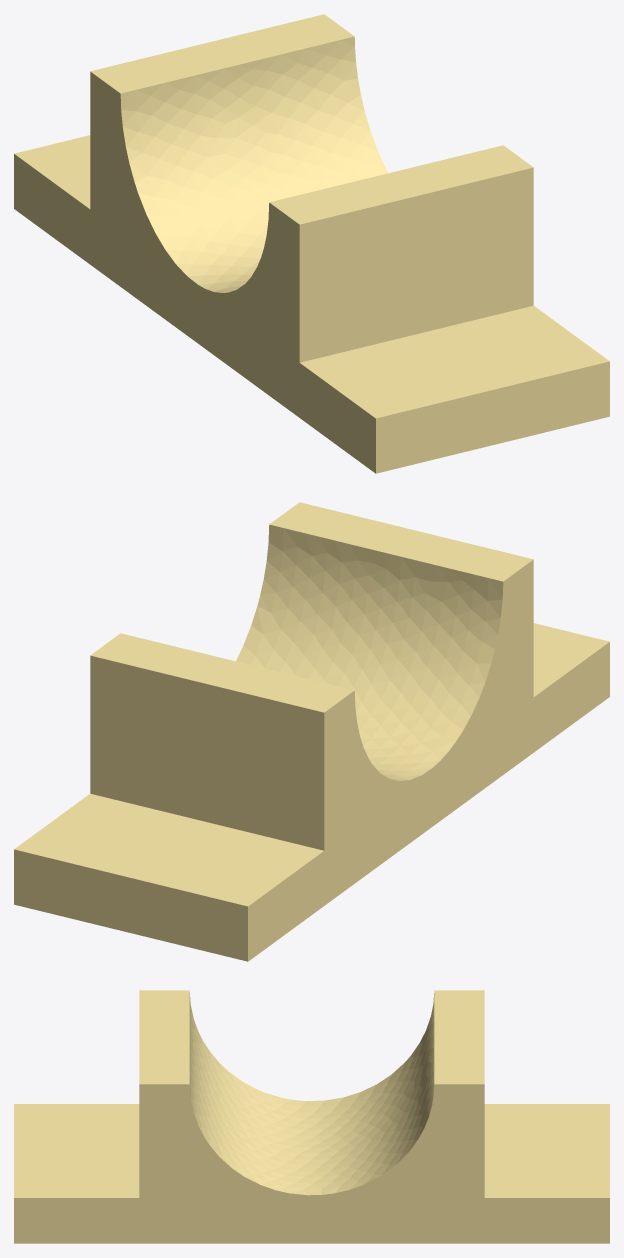
The model's file is input.gltf.
3 views of the same model, one above another, from view 1: azimuth 30°, elevation 25°; view 2: azimuth 150°, elevation 25°; view 3: azimuth 270°, elevation 25° (orthographic). The views are drawn at different scales.
Parts seen in each view (by area): view 1: Renderer Node; view 2: Renderer Node; view 3: Renderer Node.
Boxes of the visible parts, x1,y1,x2,y2 form: Renderer Node: (14,14,609,473); Renderer Node: (14,502,609,961); Renderer Node: (14,990,609,1243).
Size of the model in its own units: 0.5078 by 0.4007 by 1.36.
